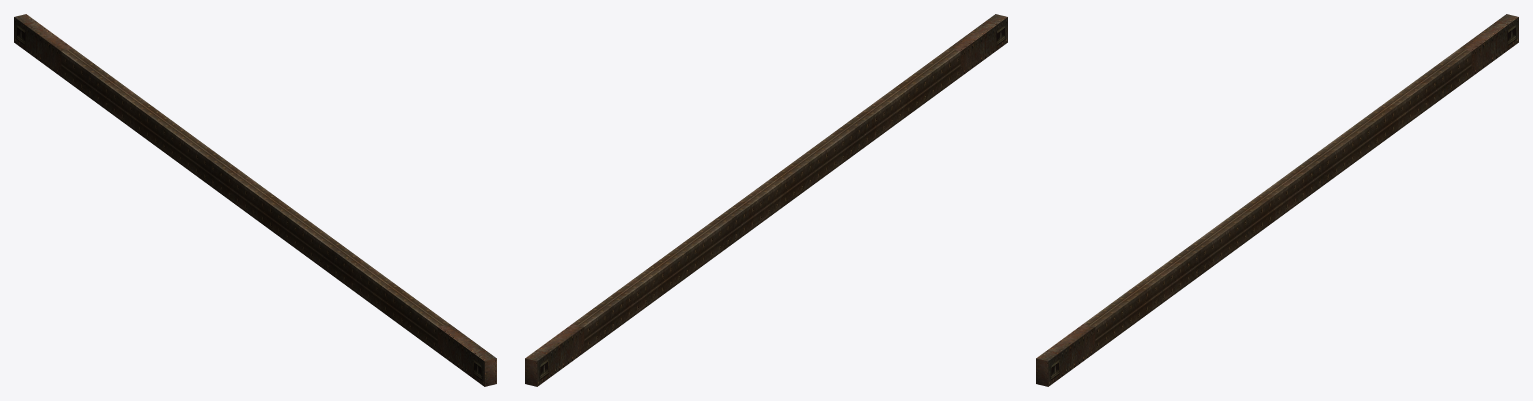
The model's file is Grindrail01.gltf.
3 renders of one model, left to right at view 1: azimuth 30°, elevation 25°; view 2: azimuth 150°, elevation 25°; view 3: azimuth 330°, elevation 25°, orthographic.
Parts seen in each view (by area): view 1: Grindrail01Mesh; view 2: Grindrail01Mesh; view 3: Grindrail01Mesh.
Part boxes in pixels (x1,y1,x2,y2): Grindrail01Mesh: (14,14,496,386); Grindrail01Mesh: (525,14,1007,386); Grindrail01Mesh: (1036,14,1518,386).
Size of the model in its own units: 0.15 by 0.3 by 10.
Materials: 2 (2 with a texture image).
